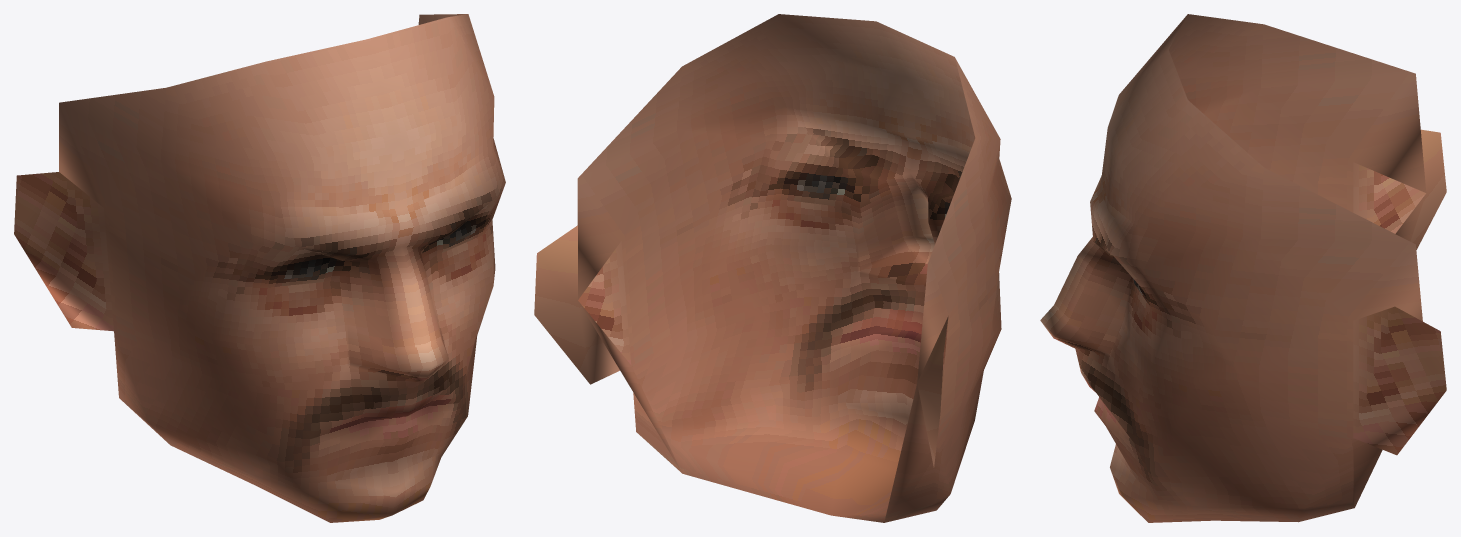
3 views of the same model, side by side, from view 1: azimuth 30°, elevation 25°; view 2: azimuth 150°, elevation 25°; view 3: azimuth 270°, elevation 25° (orthographic). The views are drawn at different scales.
Parts seen in each view (by area): view 1: editpl_m-0000-134, editpl_m-0000-133; view 2: editpl_m-0000-134, editpl_m-0000-133; view 3: editpl_m-0000-134, editpl_m-0000-133.
Part boxes in pixels (bbox=[...]): editpl_m-0000-134: bbox=[14, 14, 505, 438]; editpl_m-0000-133: bbox=[114, 331, 477, 522]; editpl_m-0000-134: bbox=[534, 14, 1011, 467]; editpl_m-0000-133: bbox=[578, 235, 983, 522]; editpl_m-0000-134: bbox=[1054, 14, 1446, 455]; editpl_m-0000-133: bbox=[1040, 194, 1425, 522].
Size of the model in its own units: 17.18 by 18.6 by 14.87.
Materials: 1 (1 with a texture image).
